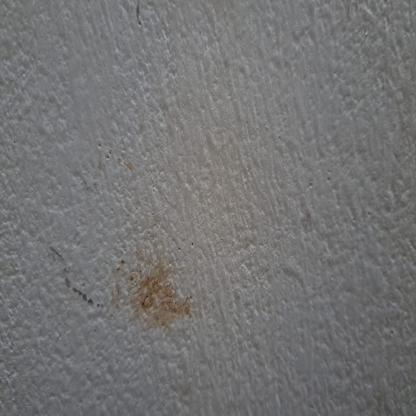spot: (107, 237, 211, 330), (34, 237, 102, 315), (124, 149, 147, 185)
